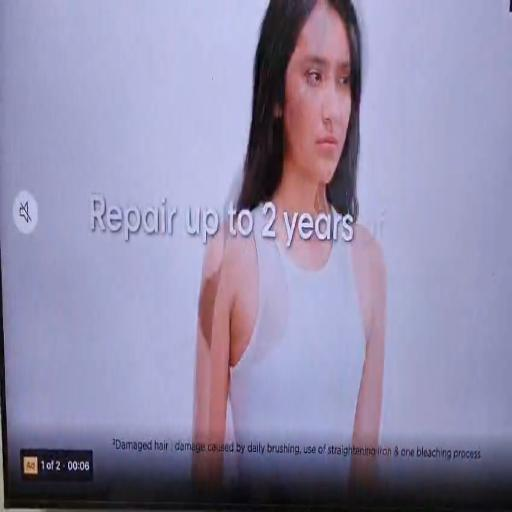ad label: (20, 452, 41, 478)
